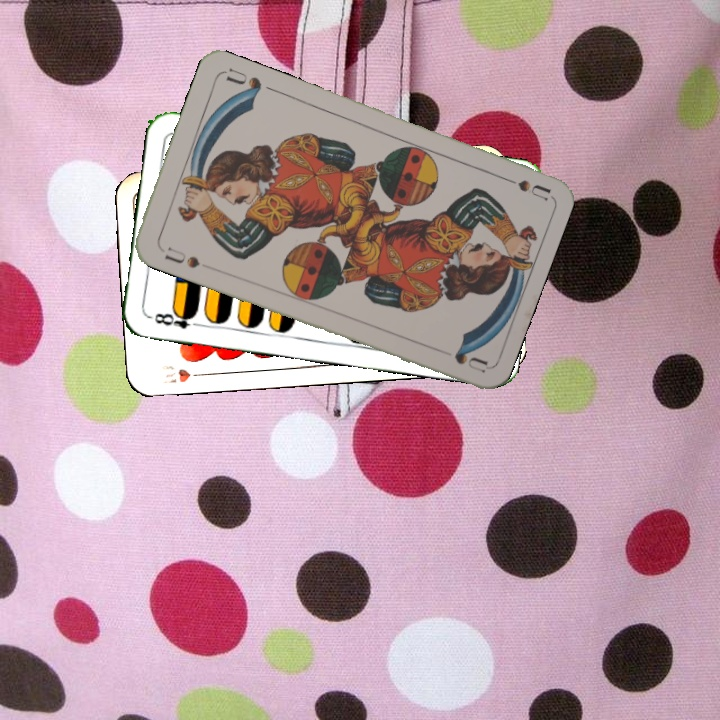E8: (146, 306, 205, 331)
H10: (158, 360, 210, 387)
SU: (493, 170, 551, 202), (156, 242, 203, 272)
